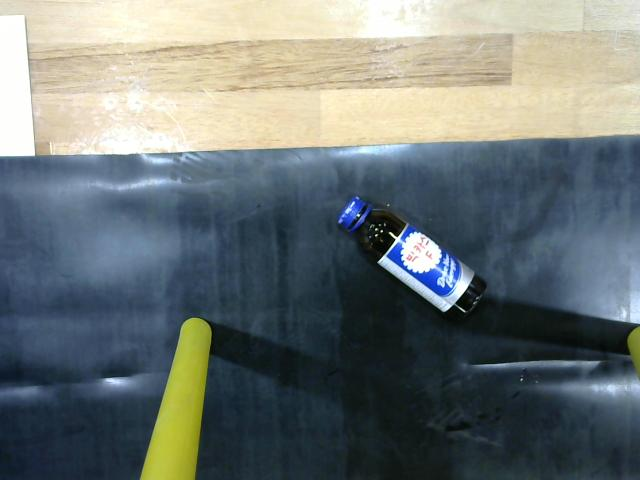glass: (331, 192, 496, 330)
